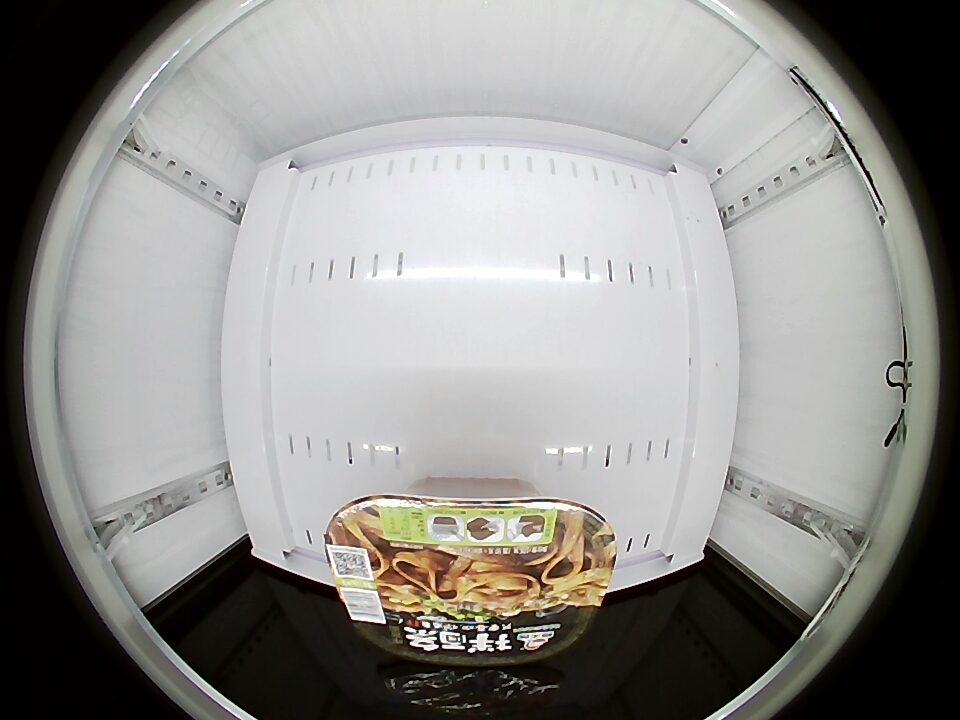gudasao: (324, 492, 617, 663)
